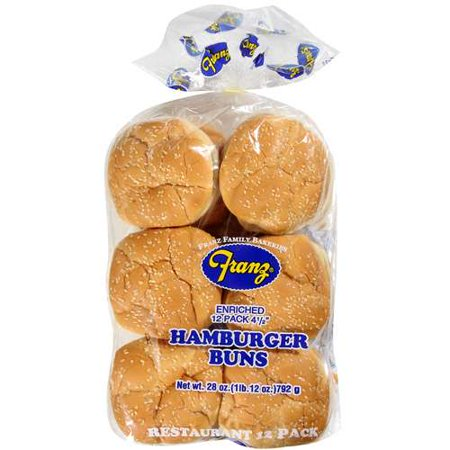hamburger_buns: (103, 106, 342, 450)
